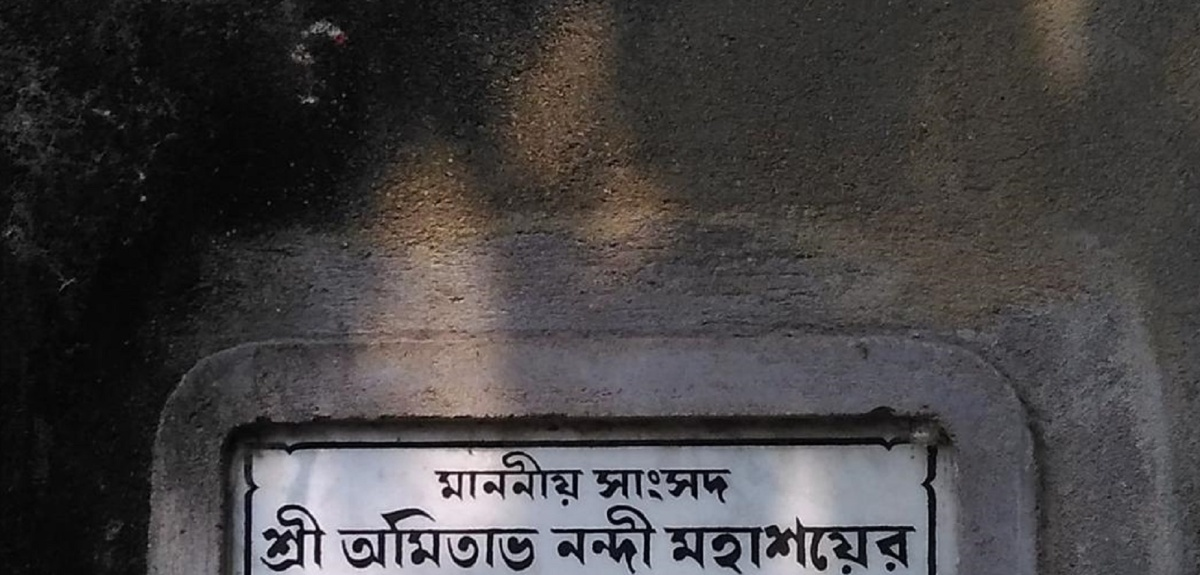text: (257, 500, 272, 573), (273, 500, 288, 573), (289, 500, 304, 573), (305, 500, 320, 573), (337, 502, 352, 574), (353, 502, 368, 574), (369, 502, 384, 574), (385, 502, 400, 574), (401, 502, 416, 574), (417, 502, 432, 574), (433, 502, 448, 574), (449, 502, 464, 574), (465, 502, 480, 574), (481, 502, 496, 574), (497, 502, 512, 574), (513, 502, 528, 574), (529, 502, 544, 574), (561, 503, 576, 574), (577, 503, 592, 574), (593, 503, 608, 574), (609, 503, 624, 574), (625, 503, 640, 574), (641, 503, 656, 574), (321, 500, 334, 573), (673, 513, 688, 574), (689, 513, 704, 574), (705, 513, 720, 574), (721, 513, 736, 574), (737, 513, 752, 574), (753, 513, 768, 574), (769, 513, 784, 574), (785, 513, 800, 574), (801, 513, 816, 574), (817, 513, 832, 574), (833, 513, 848, 574), (849, 513, 864, 574), (865, 513, 880, 574), (881, 513, 896, 574), (897, 513, 912, 574), (433, 448, 448, 508), (449, 448, 464, 508), (465, 448, 480, 508), (481, 448, 496, 508), (497, 448, 512, 508), (513, 448, 528, 508), (529, 448, 544, 508), (545, 448, 560, 508), (561, 448, 576, 508), (548, 503, 560, 574), (577, 448, 591, 508), (661, 513, 672, 574), (593, 463, 608, 506), (609, 463, 624, 506), (625, 463, 640, 506), (641, 463, 656, 506), (657, 463, 672, 506), (673, 463, 688, 506), (689, 463, 704, 506), (705, 463, 720, 506), (721, 463, 733, 506), (913, 513, 920, 574), (545, 502, 547, 574), (335, 502, 336, 574), (657, 503, 658, 574), (431, 448, 432, 508), (591, 463, 592, 506)
